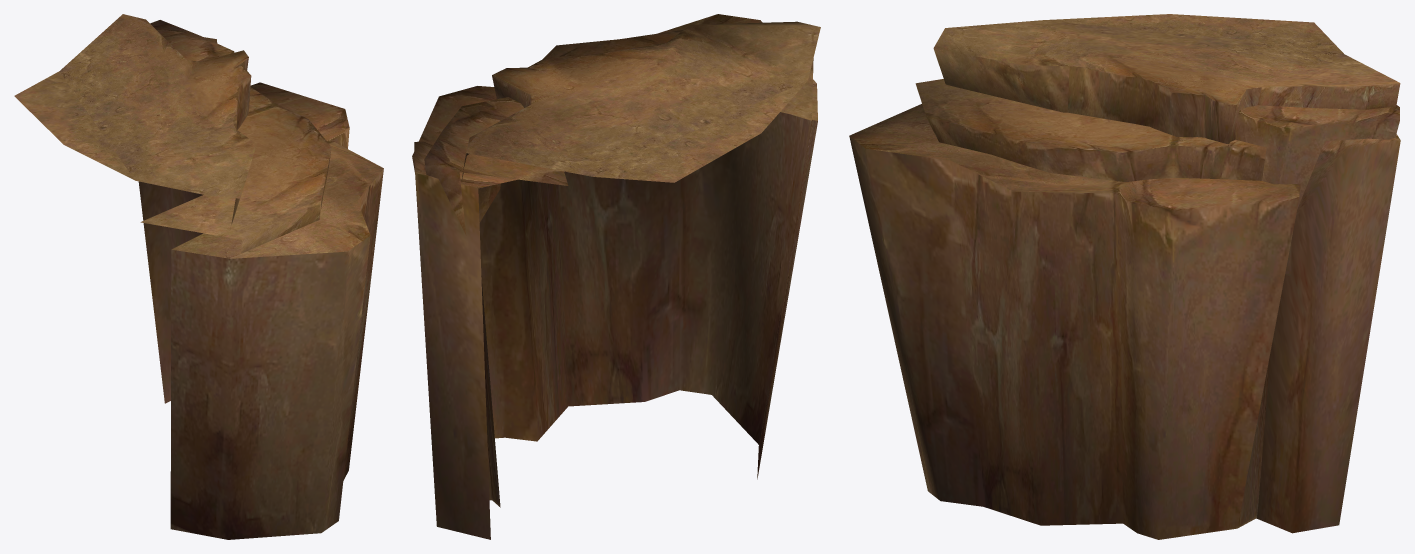
Rendered from SC001Jshanshi_08.FBX.
The picture shows the model from 3 angles, left to right: view 1: azimuth 30°, elevation 25°; view 2: azimuth 150°, elevation 25°; view 3: azimuth 270°, elevation 25°; orthographic projection. The views are drawn at different scales.
Parts seen in each view (by area): view 1: SC001Jshanshi_08; view 2: SC001Jshanshi_08; view 3: SC001Jshanshi_08.
Part boxes in pixels (box(x1,y1,x2,y2)): SC001Jshanshi_08: box(14, 14, 383, 539); SC001Jshanshi_08: box(412, 14, 820, 539); SC001Jshanshi_08: box(849, 14, 1400, 539).
Size of the model in its own units: 3.55 by 4.58 by 5.27.
